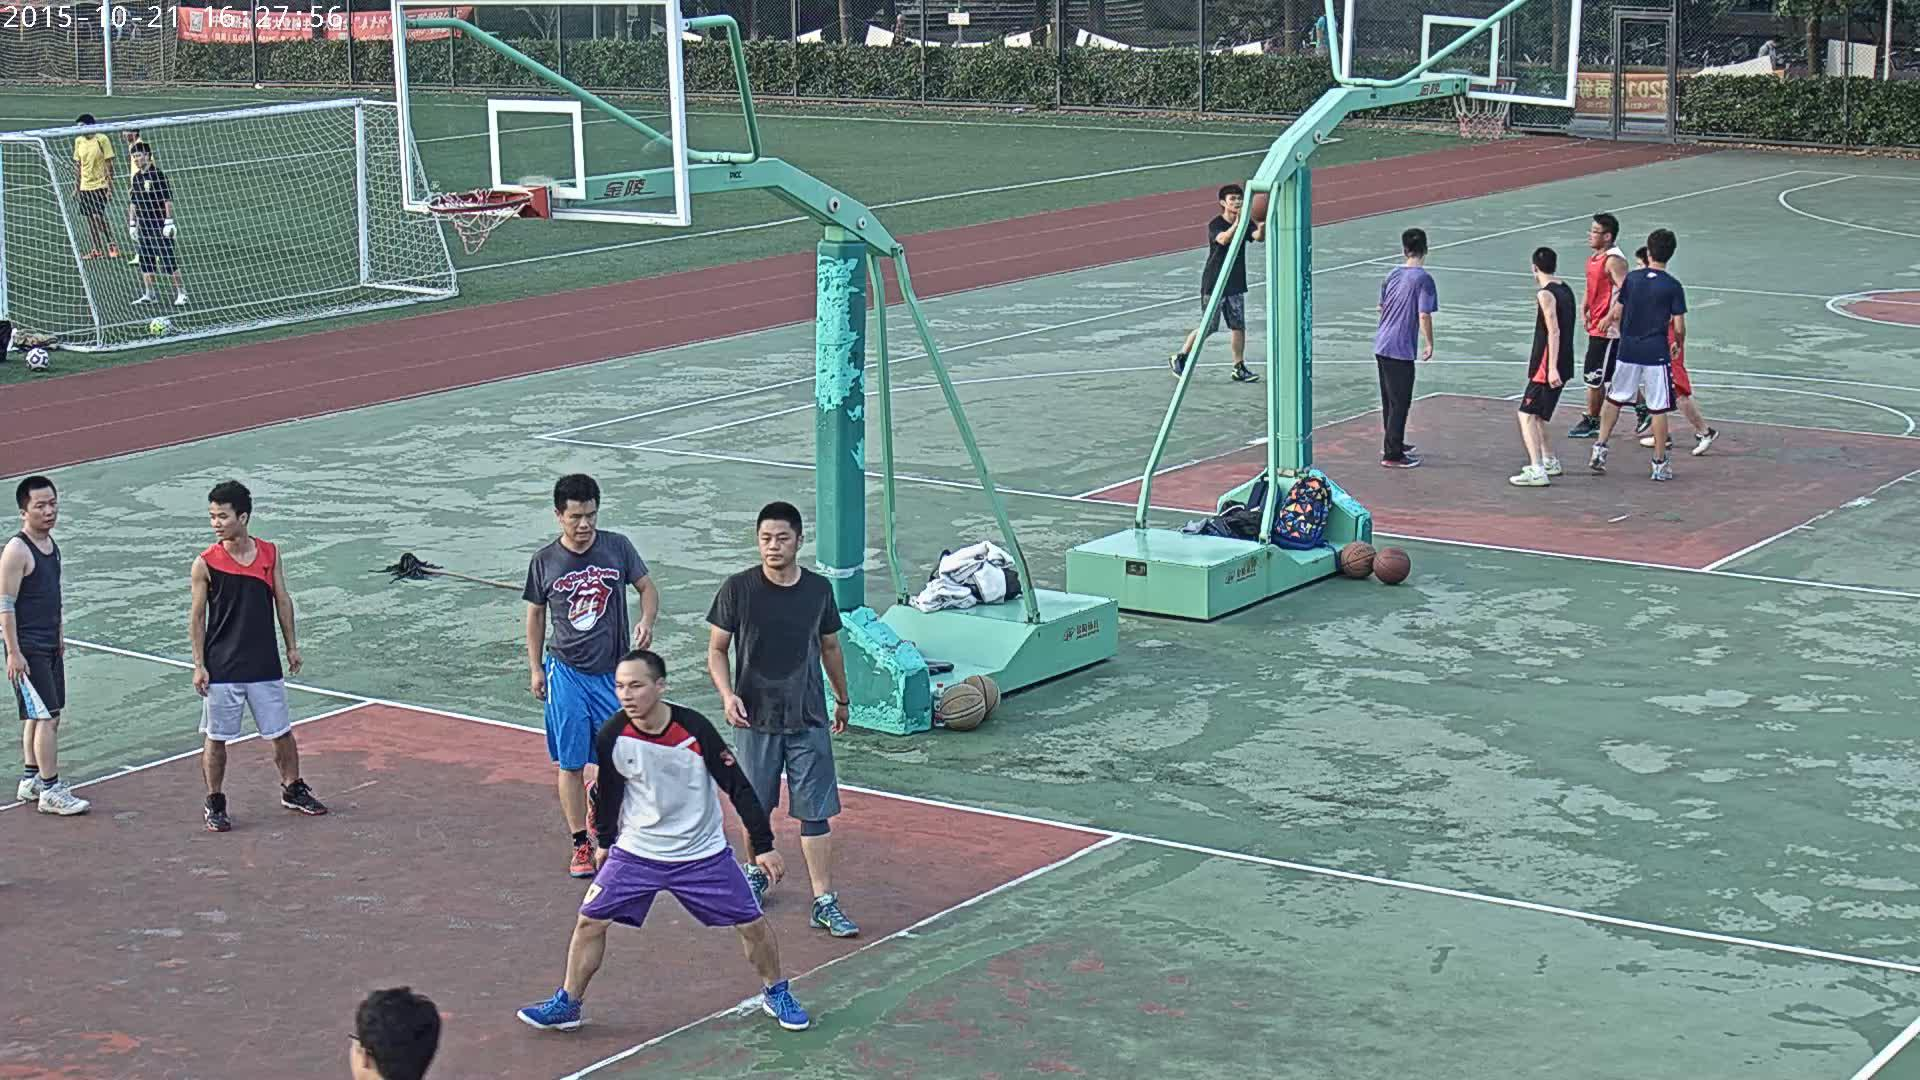person: (512, 649, 814, 1035), (705, 501, 863, 939), (523, 473, 658, 882), (189, 481, 328, 834), (0, 475, 93, 820), (1588, 227, 1688, 483), (1169, 182, 1262, 384), (1634, 247, 1720, 456), (1507, 247, 1577, 488), (1375, 227, 1439, 471), (1569, 211, 1630, 440), (128, 140, 190, 309), (70, 114, 121, 261), (118, 129, 156, 266)
